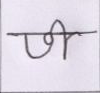i_matra: (54, 20, 72, 60)
